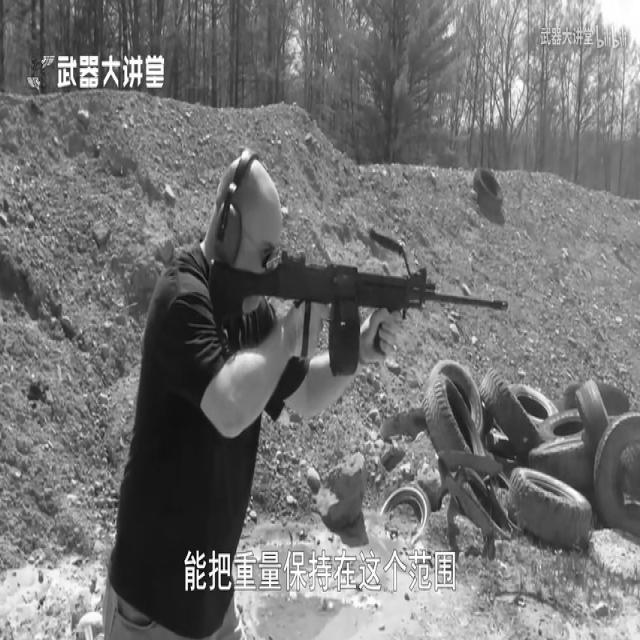Sub-machine-gun: (225, 222, 514, 414)
